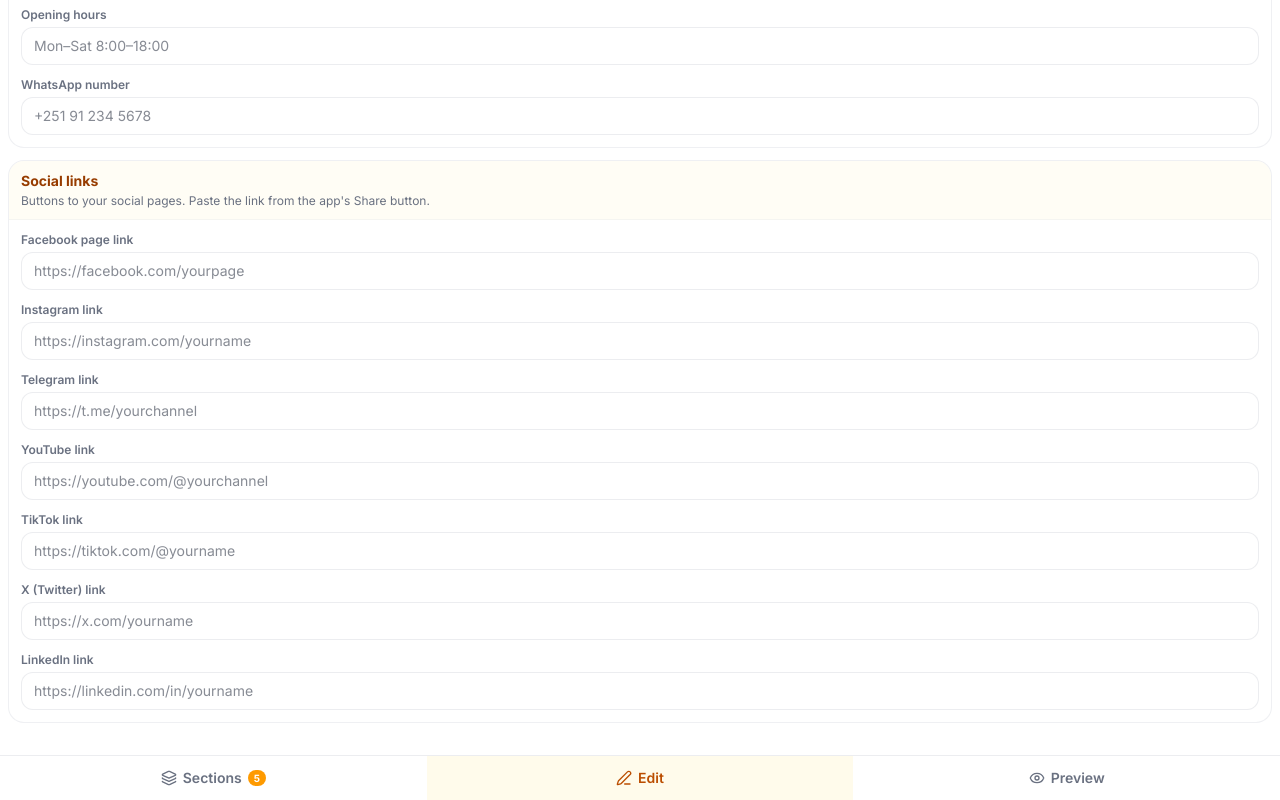
Test case: Studio layouts › on a phone: Publish in the top bar, Sections slide over the preview
The image size is (1280, 800).
(page scrolled)
Click the tab "Sections 5".
click(213, 778)  # box [0,756,427,799]
(page scrolled)
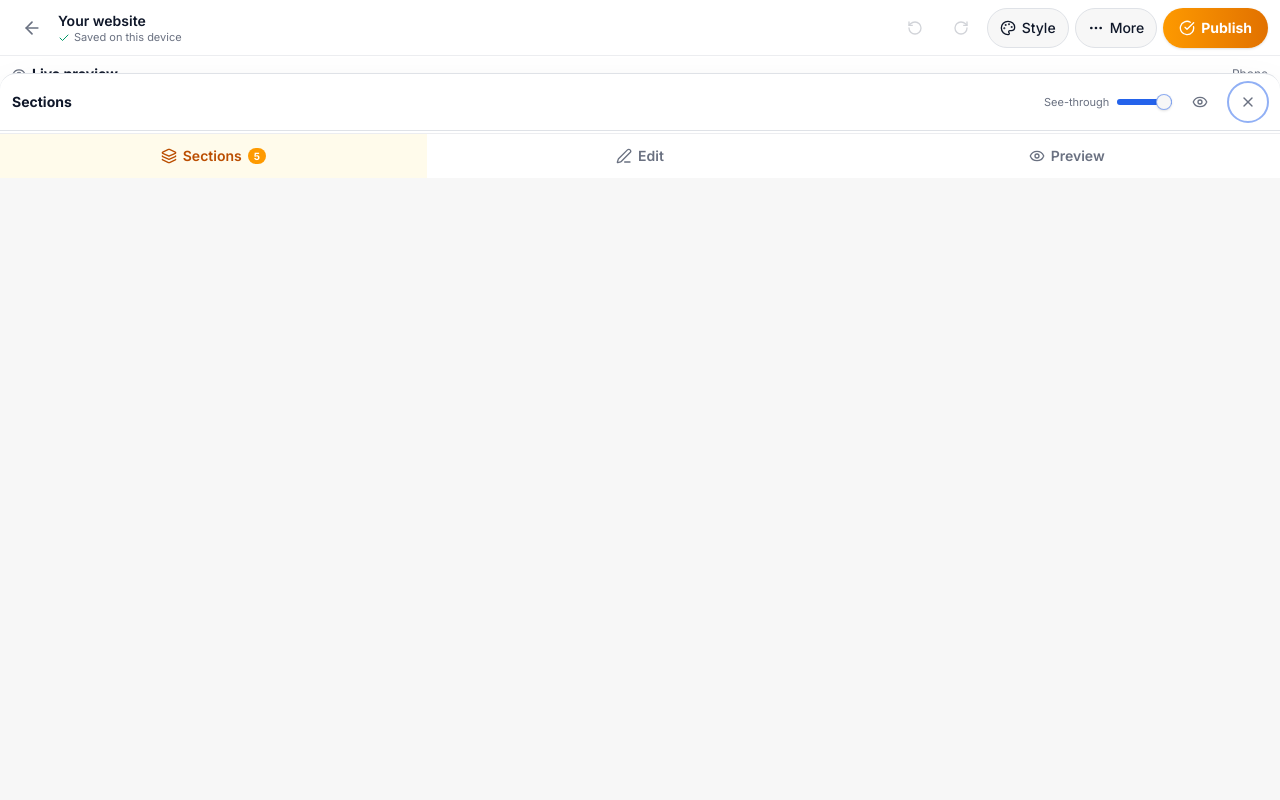
Now the text "hero,services,testimonials,contact,social" is shown, box [8,103,315,123]
Press Escape
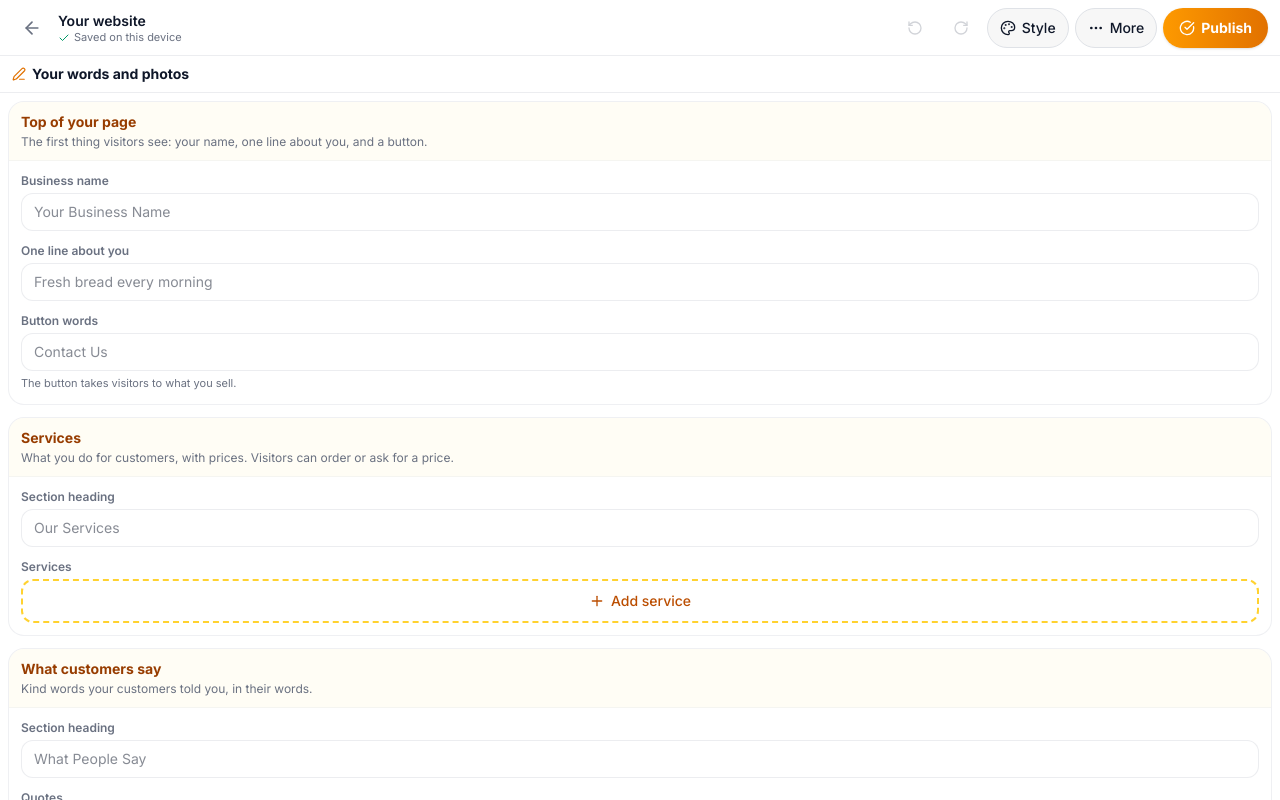
Now the button "Sections" is gone
